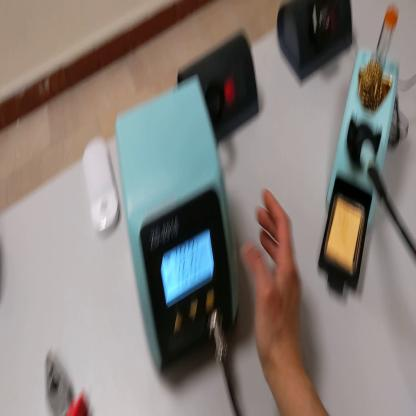hand: (244, 186, 304, 383)
pliers: (45, 356, 90, 415)
socket: (177, 32, 265, 147), (276, 2, 354, 82)
welder base: (317, 5, 407, 296)
welder probe tip: (360, 129, 386, 198)
welder station: (118, 63, 242, 373)
